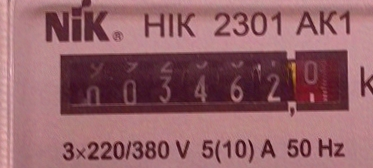0: (121, 74, 140, 104), (303, 57, 321, 85), (84, 81, 103, 104)
2: (265, 69, 284, 102)
3: (156, 72, 175, 104)
4: (193, 70, 211, 103)
6: (227, 70, 248, 104)
9: (86, 59, 106, 78)
screen: (48, 36, 361, 132)
